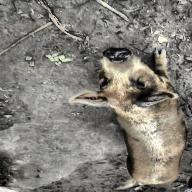boar: (66, 47, 187, 189)
